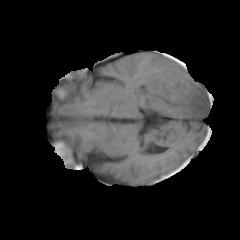glioma: (132, 55, 210, 117)
